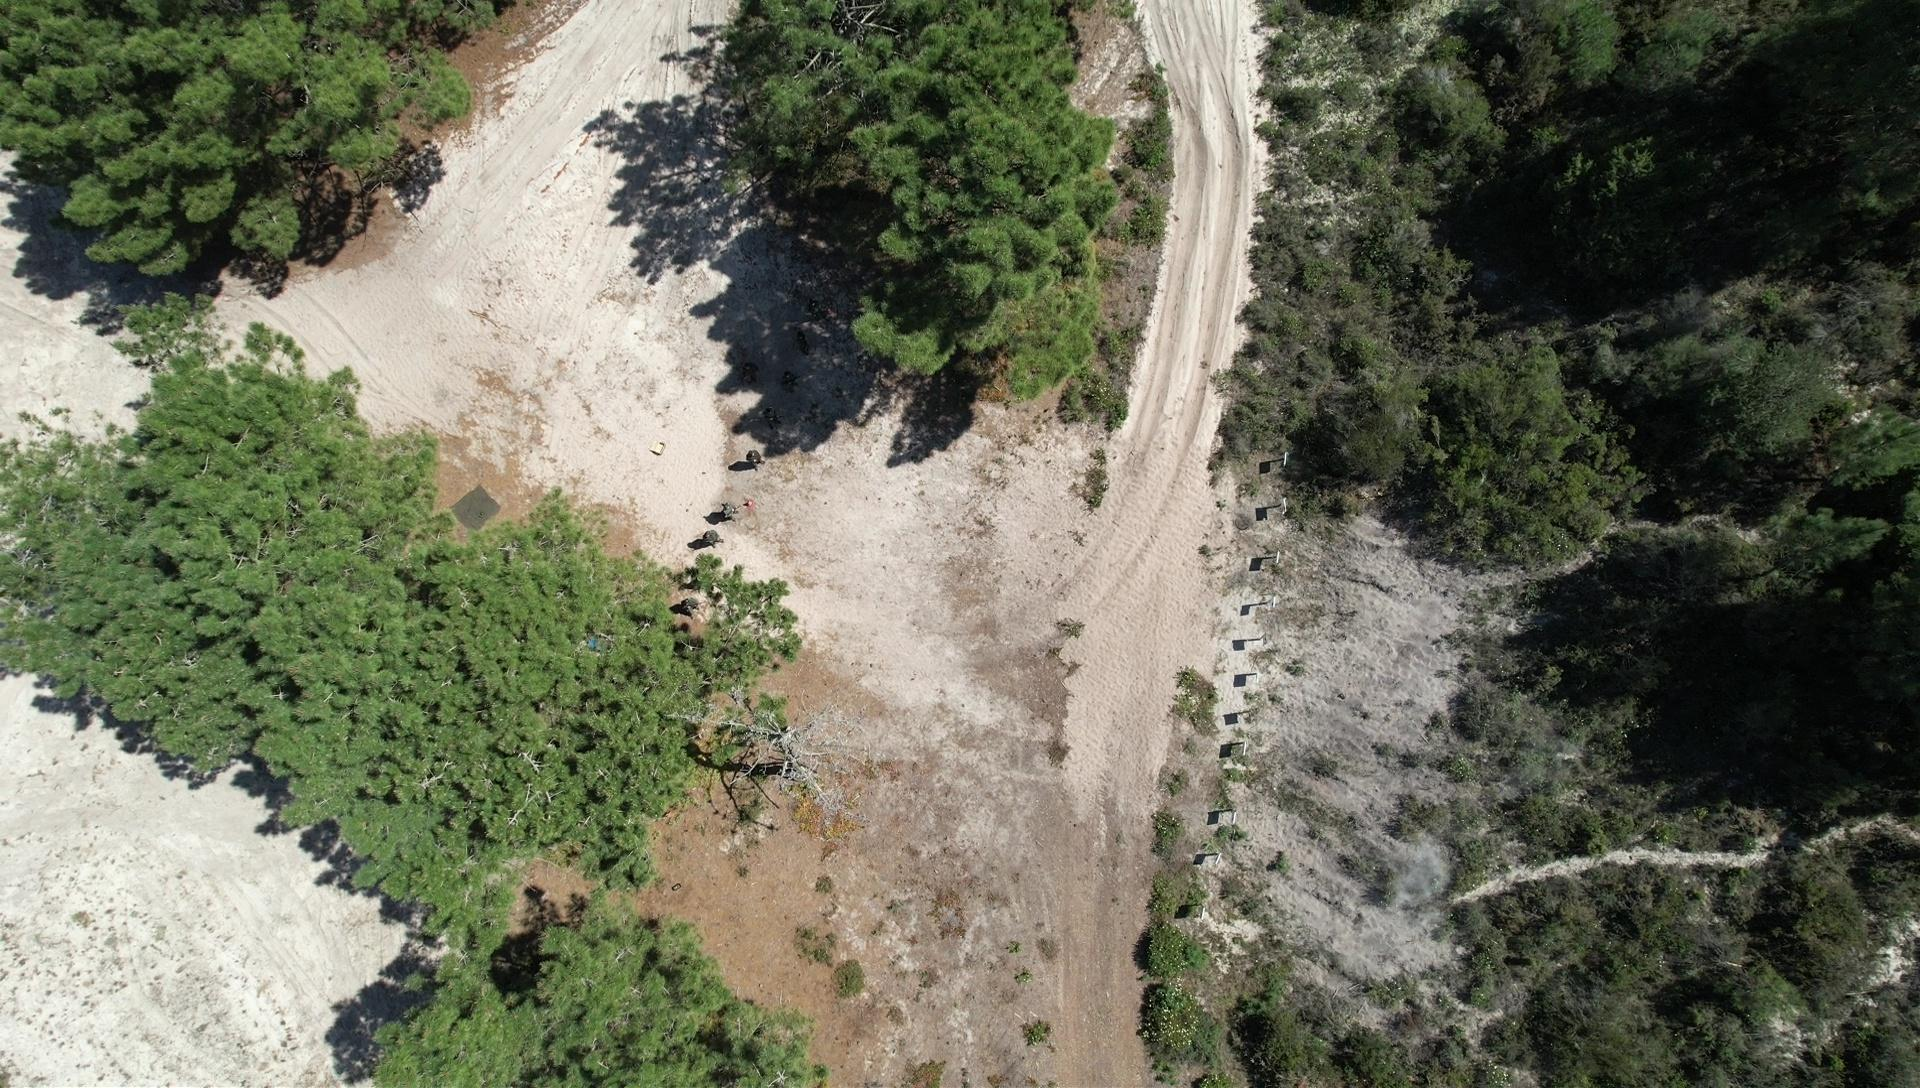Soldier: (733, 354, 768, 388), (791, 326, 815, 360), (756, 402, 783, 432), (743, 446, 769, 474), (777, 363, 799, 395), (675, 594, 700, 621), (698, 527, 724, 552), (697, 528, 723, 551)
